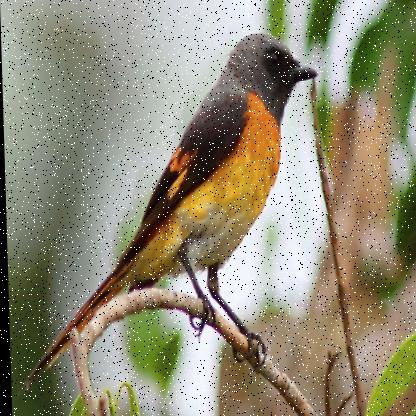Burung: (8, 31, 326, 392)
